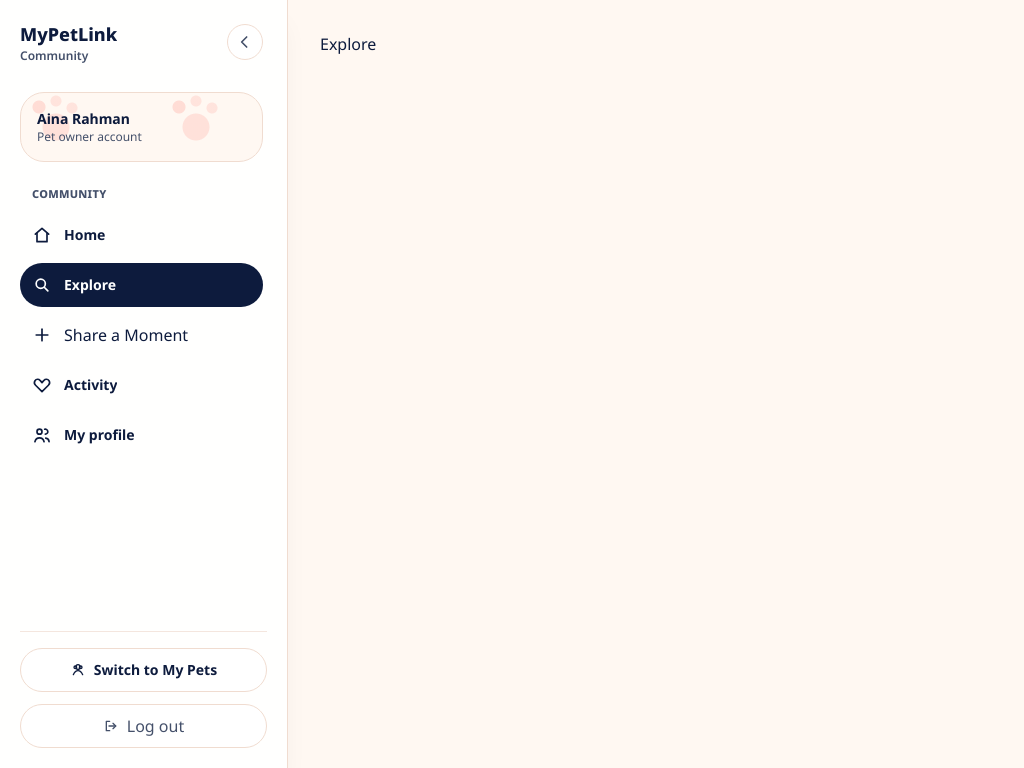
Test case: an earlier composer's save, finishing after a new one opened › confirms a save that finished after its composer closed, when nothing newer opened
This screenshot has width=1024, height=768.
Click the button "Share a Moment". click: (142, 334)
box: 20,312 -> 263,356
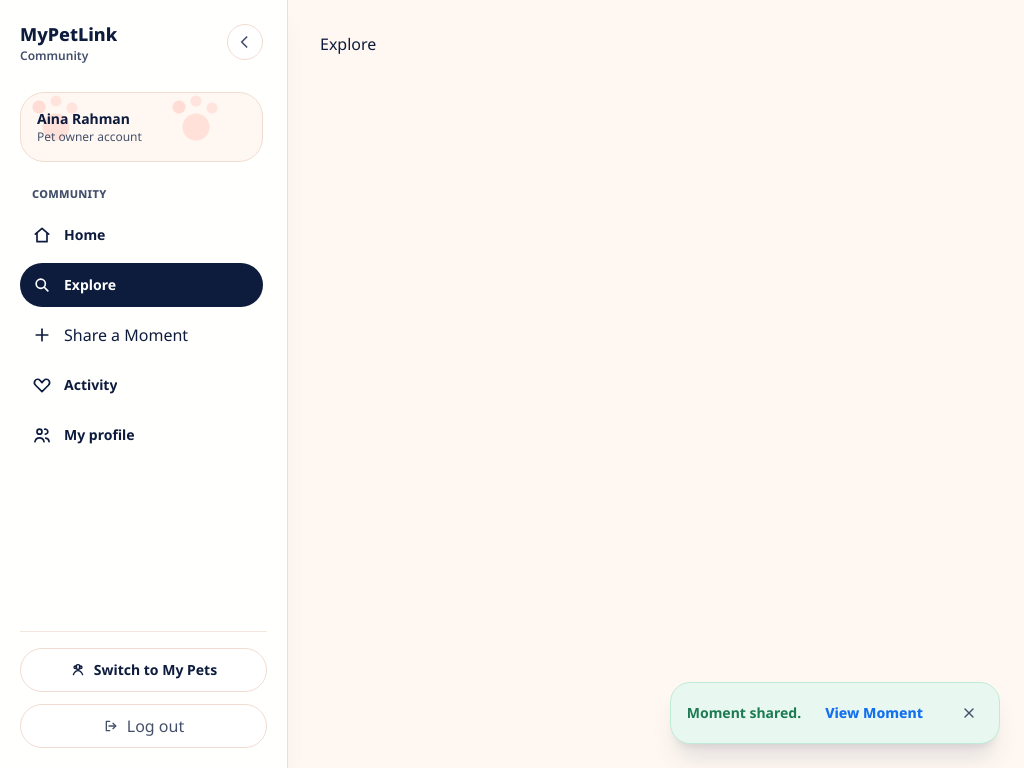
Now the element with test id "moment-shared-notice" shows "Moment shared.", box 687,703 -> 801,722
